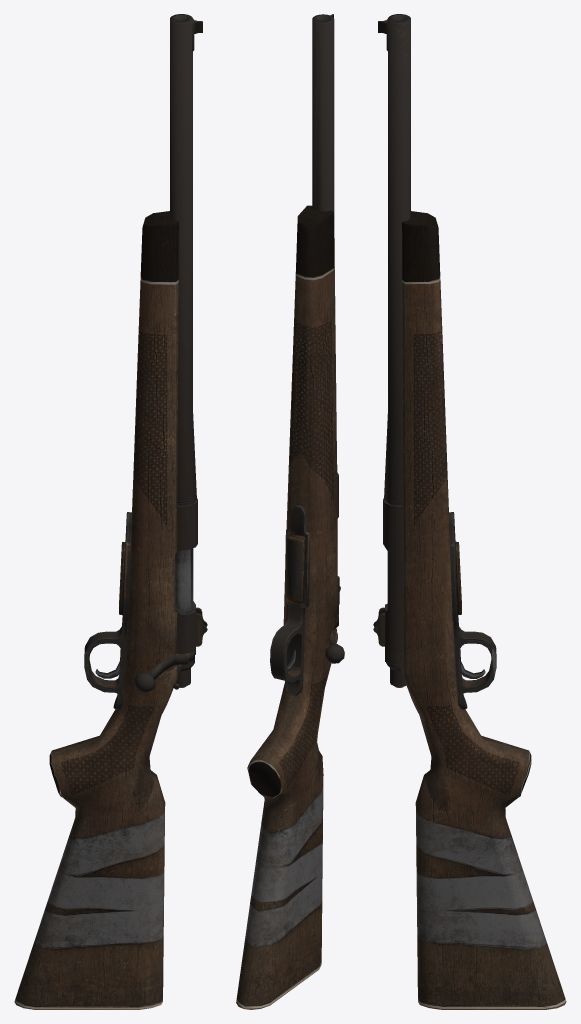
Rendered from hunting-rifle.glb.
The picture shows the model from 3 angles, left to right: view 1: azimuth 90°, elevation 25°; view 2: azimuth 150°, elevation 25°; view 3: azimuth 270°, elevation 25°; orthographic projection. The views are drawn at different scales.
Parts seen in each view (by area): view 1: HuntingRifleStockStandard:0, HuntingRifleBarrel:0, HuntingRifleReceiver:0, HuntingRifleBolt:0; view 2: HuntingRifleStockStandard:0, HuntingRifleBarrel:0, HuntingRifleReceiver:0, 308MagSmall:0, HuntingRifleBolt:0; view 3: HuntingRifleStockStandard:0, HuntingRifleBarrel:0, HuntingRifleReceiver:0.
Boxes of the visible parts, left/top/right/bottom form: HuntingRifleStockStandard:0: left=14, top=211, right=178, bottom=1009; HuntingRifleBarrel:0: left=170, top=14, right=196, bottom=505; HuntingRifleReceiver:0: left=84, top=498, right=197, bottom=709; HuntingRifleBolt:0: left=134, top=549, right=194, bottom=692; HuntingRifleStockStandard:0: left=236, top=205, right=337, bottom=1009; HuntingRifleBarrel:0: left=312, top=14, right=337, bottom=469; HuntingRifleReceiver:0: left=270, top=472, right=338, bottom=695; 308MagSmall:0: left=285, top=534, right=305, bottom=603; HuntingRifleBolt:0: left=325, top=615, right=344, bottom=663; HuntingRifleStockStandard:0: left=402, top=211, right=566, bottom=1009; HuntingRifleBarrel:0: left=384, top=14, right=410, bottom=505; HuntingRifleReceiver:0: left=383, top=498, right=496, bottom=709.
Bounding box in the file's own units: 0.0743 × 1.16 × 0.2055.
7 materials, 7 textured.
